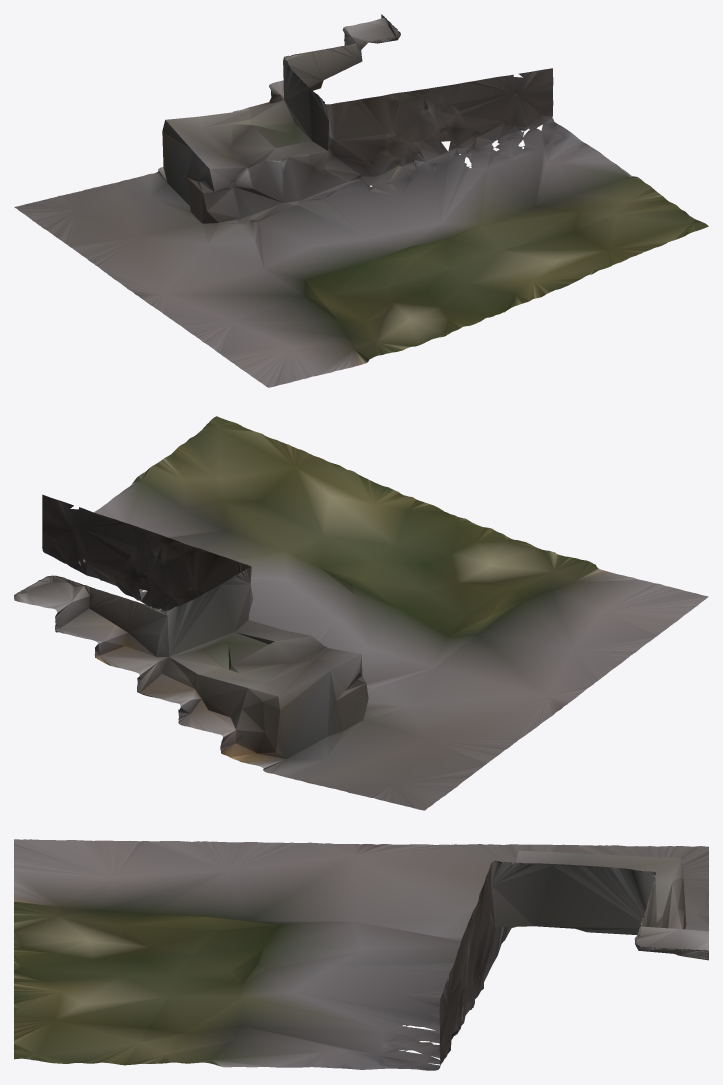
The model's file is coarse.glb.
3 renders of one model, top to bottom at view 1: azimuth 30°, elevation 25°; view 2: azimuth 150°, elevation 25°; view 3: azimuth 270°, elevation 25°, orthographic. The views are drawn at different scales.
Size of the model in its own units: 3.6 by 0.813 by 3.6.
